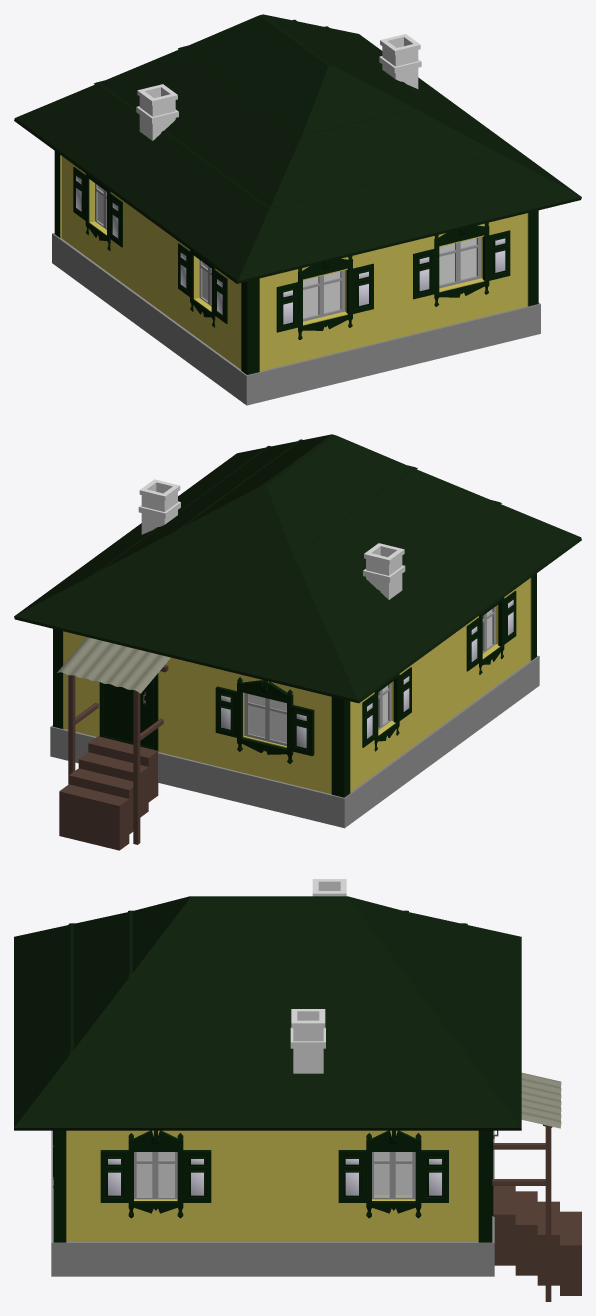
File: Дом 1 квадратная крыша.fbx
3 views of the same model, one above another, from view 1: azimuth 30°, elevation 25°; view 2: azimuth 150°, elevation 25°; view 3: azimuth 270°, elevation 25° (orthographic). The views are drawn at different scales.
Parts seen in each view (by area): view 1: Куб.001; view 2: Куб.001; view 3: Куб.001.
Boxes of the visible parts, x1,y1,x2,y2 form: Куб.001: [14, 14, 581, 405]; Куб.001: [14, 434, 581, 850]; Куб.001: [14, 879, 581, 1301].
Size of the model in its own units: 300 by 252 by 375.
